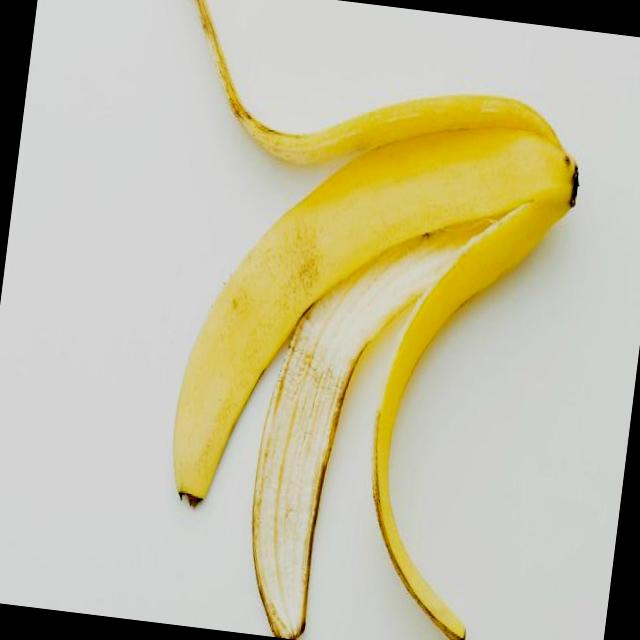banana: (148, 63, 605, 640)
